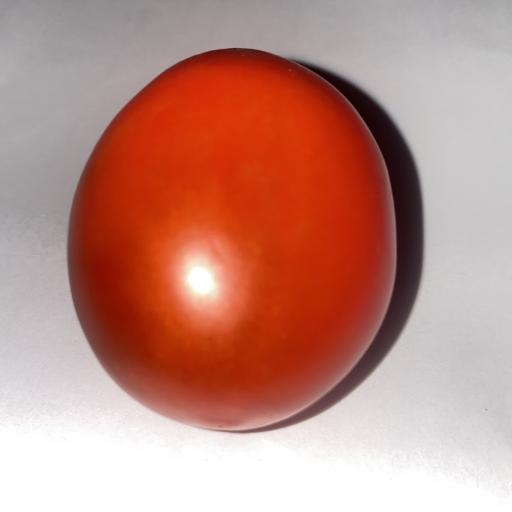ripe: (68, 49, 396, 430)
